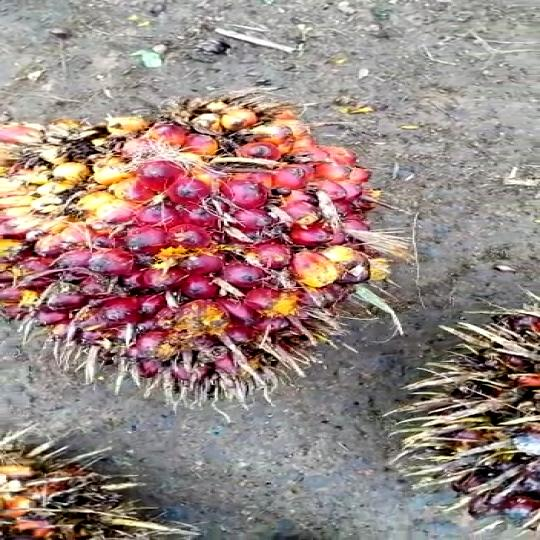masak: (0, 89, 384, 397)
